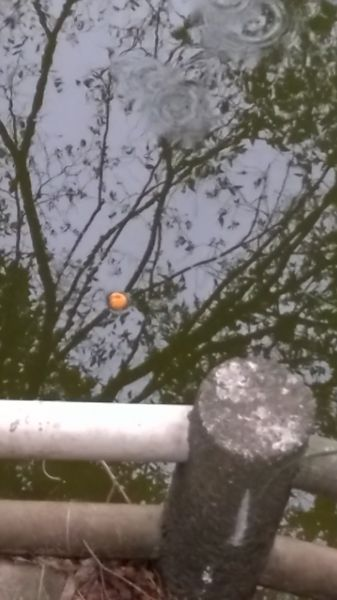eggs: (102, 286, 131, 314)
